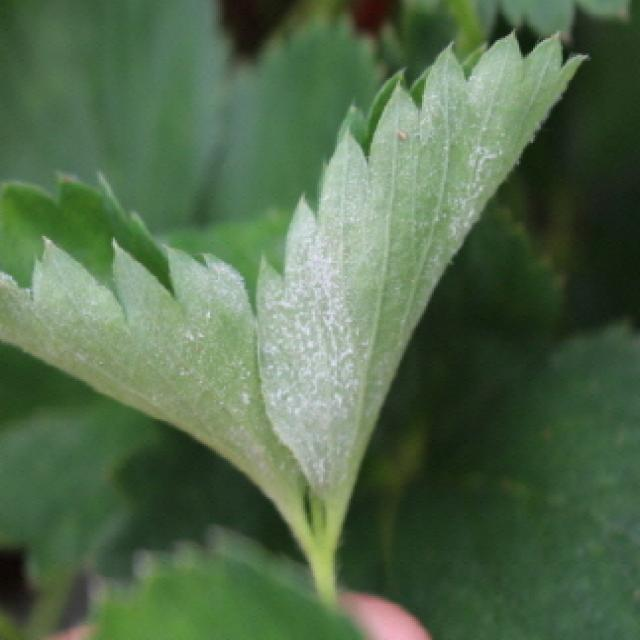Powdery Mildew Leaf: (253, 28, 591, 543), (0, 169, 311, 534)
